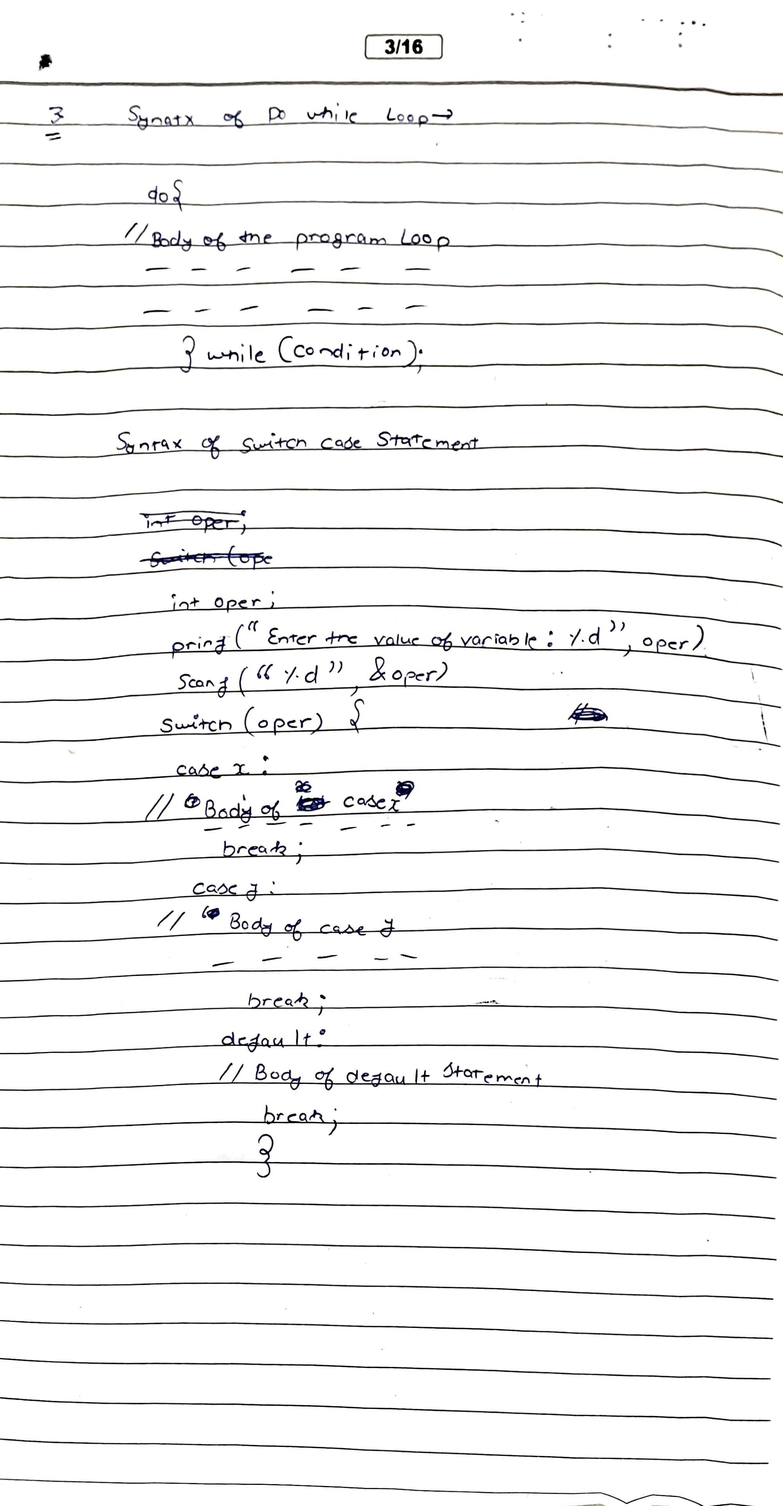cuttings: (138, 545, 274, 571), (137, 509, 247, 536), (294, 779, 331, 812), (567, 703, 609, 726), (395, 780, 415, 800), (184, 793, 201, 808), (206, 907, 220, 921)
